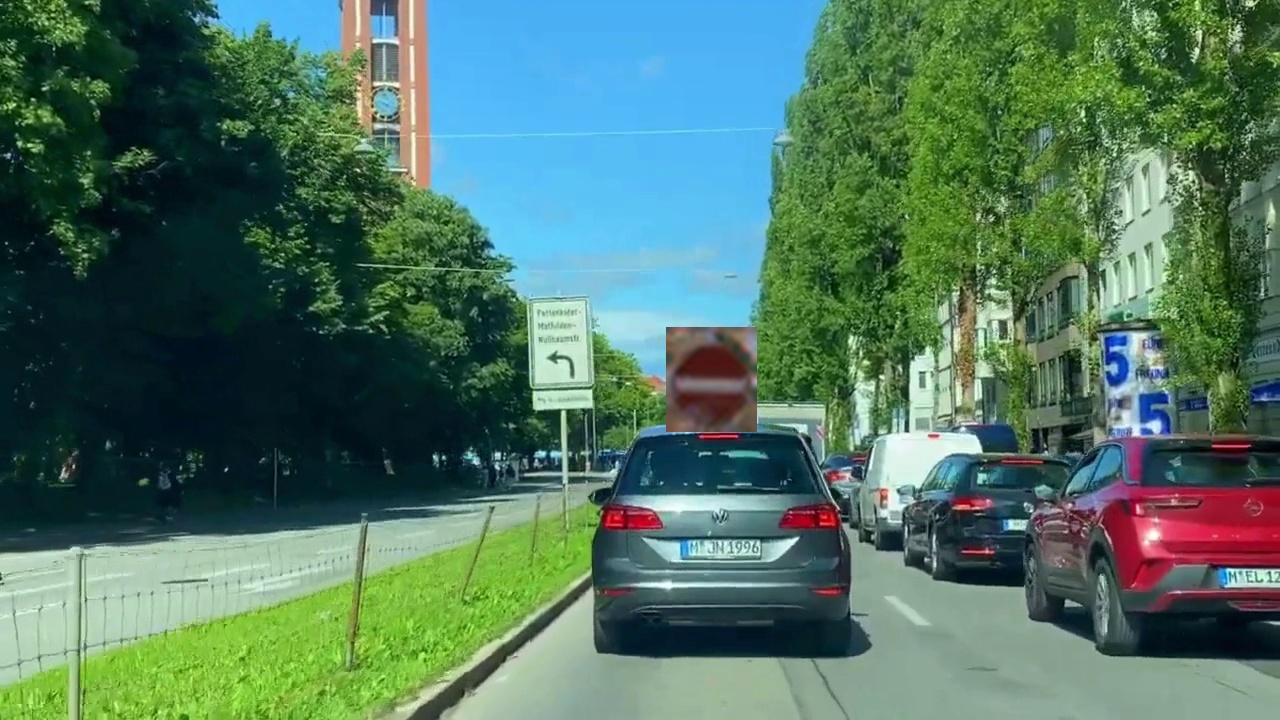No entry: (666, 327, 757, 432)
